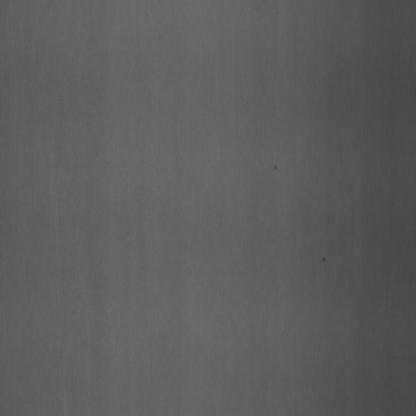inclusion: (268, 148, 284, 184), (317, 249, 332, 272)
